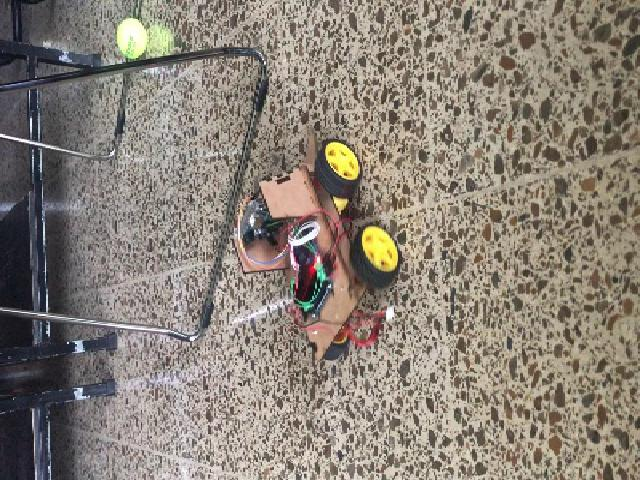Ball: (114, 18, 147, 58)
Robot: (229, 132, 398, 359)
